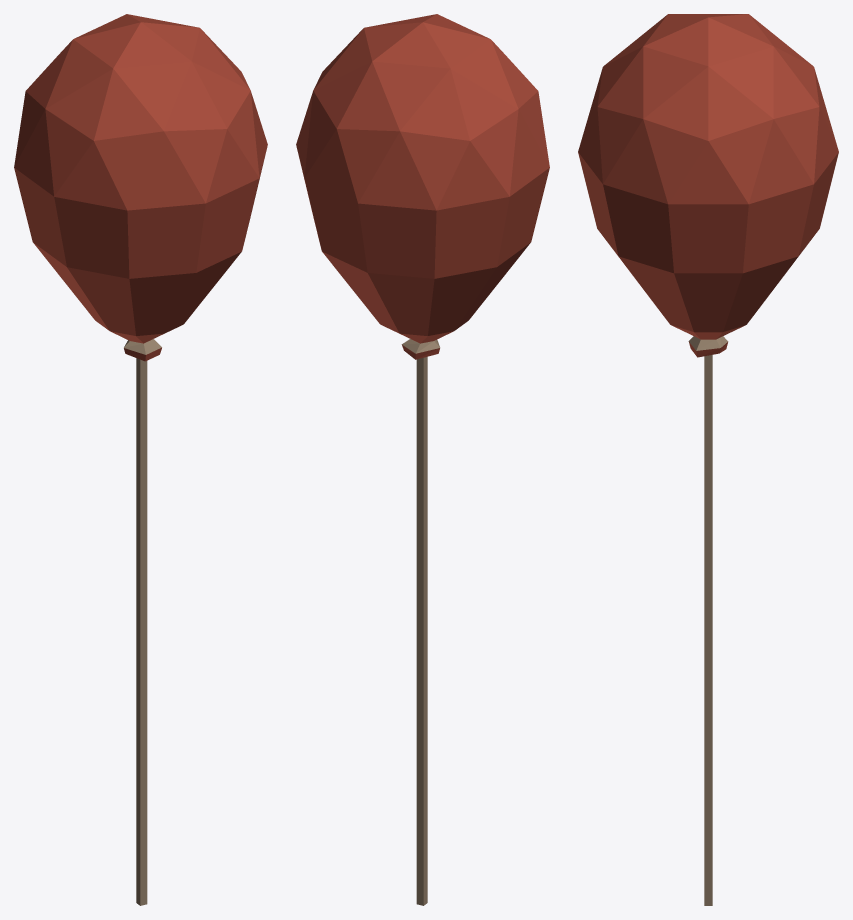
File: Balloon.obj
3 renders of one model, left to right at view 1: azimuth 30°, elevation 25°; view 2: azimuth 150°, elevation 25°; view 3: azimuth 270°, elevation 25°, orthographic.
Parts seen in each view (by area): view 1: Balloon; view 2: Balloon; view 3: Balloon.
Part boxes in pixels (x1,y1,x2,y2): Balloon: (14,14,267,905); Balloon: (296,14,549,905); Balloon: (578,14,838,905).
Size of the model in its own units: 0.4567 by 1.8 by 0.4802.
Materials: 1 (1 with a texture image).
